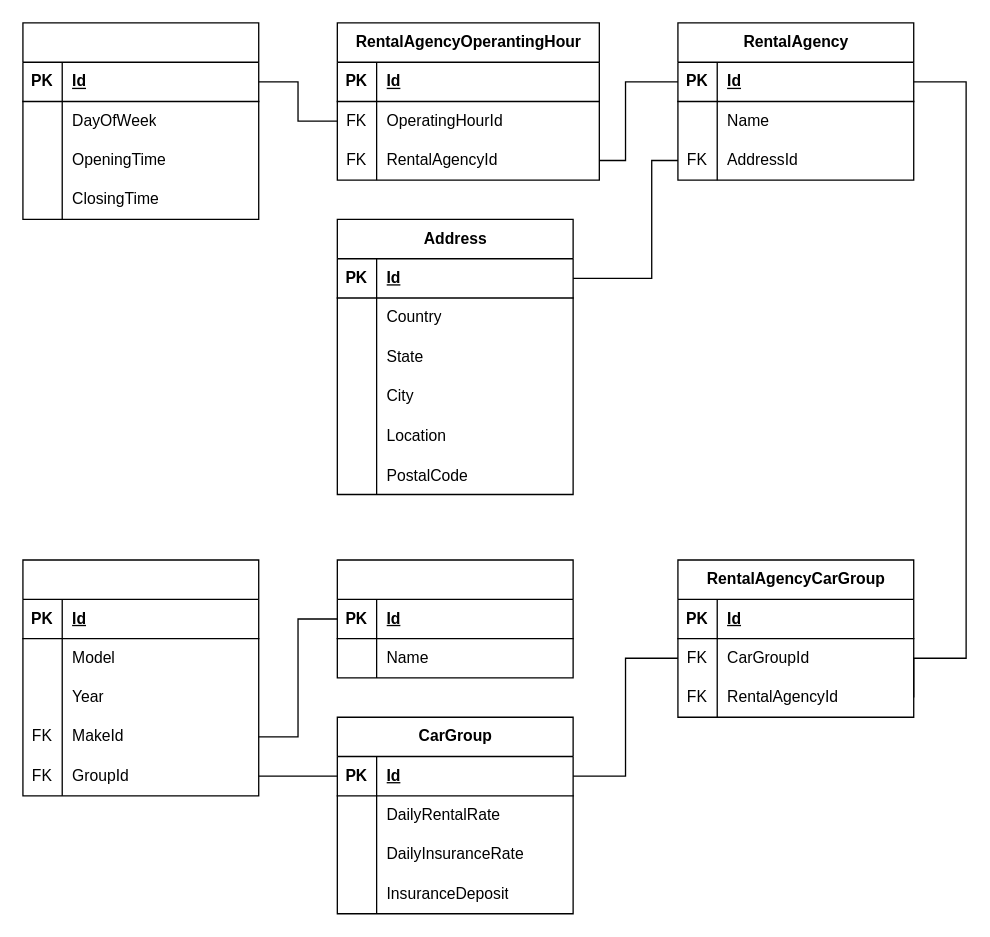
The diagram is 990 pixels wide and 937 high, and some of its shapes have lost their labels. The box of each missing label's shape, as (x1, y1, x2, y2) in pixels:
CarMake: (336, 559, 573, 678)
CarModel: (22, 559, 259, 796)
OperatingHour: (22, 22, 259, 219)
